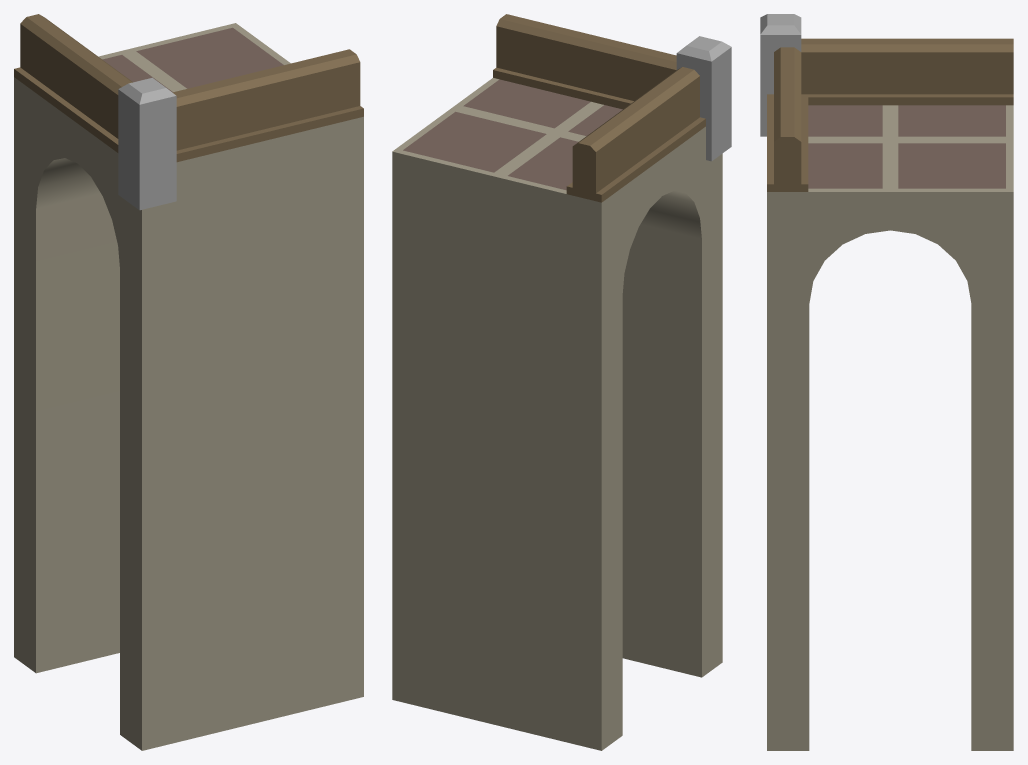
Rendered from Bridge_Corner.fbx.
The picture shows the model from 3 angles, left to right: view 1: azimuth 30°, elevation 25°; view 2: azimuth 150°, elevation 25°; view 3: azimuth 270°, elevation 25°; orthographic projection. The views are drawn at different scales.
Visible parts, largest first — view 1: polySurface3; view 2: polySurface3; view 3: polySurface3.
Boxes of the visible parts, x1,y1,x2,y2 form: polySurface3: (14,14,363,750); polySurface3: (392,14,731,750); polySurface3: (760,14,1013,750).
Size of the model in its own units: 0.0617 by 0.1699 by 0.0617.
